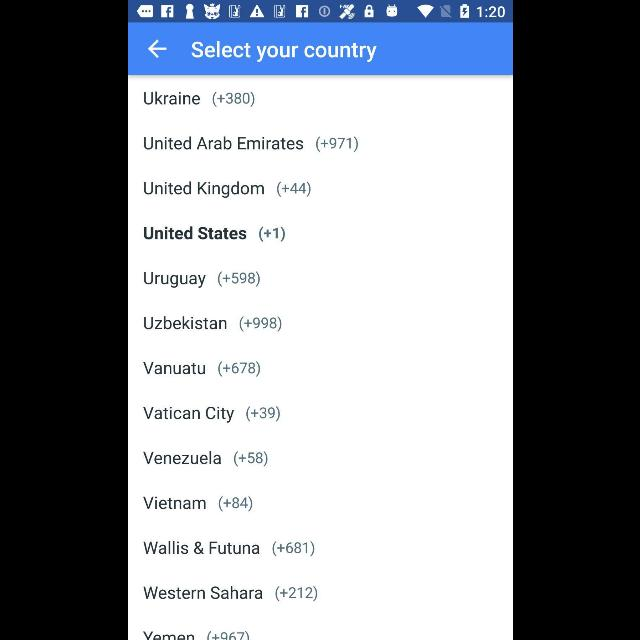icon: (148, 40, 166, 59)
text: (190, 41, 376, 63), (144, 136, 302, 150), (143, 182, 263, 198), (142, 586, 262, 600), (142, 406, 234, 424), (143, 540, 259, 554), (142, 226, 245, 240), (144, 316, 226, 330), (143, 272, 205, 288), (143, 452, 221, 464), (142, 496, 205, 509), (142, 362, 204, 374), (143, 92, 199, 105), (275, 586, 317, 602), (272, 541, 314, 557), (217, 361, 259, 377), (239, 316, 281, 332), (217, 271, 259, 287), (315, 136, 357, 152), (212, 92, 254, 108), (218, 496, 252, 512), (233, 451, 267, 467), (246, 406, 280, 422), (276, 181, 310, 197), (206, 630, 248, 640), (142, 632, 194, 640), (258, 226, 284, 242)
toolbar: (128, 23, 512, 75)
uppertaskbar: (128, 1, 512, 23)
